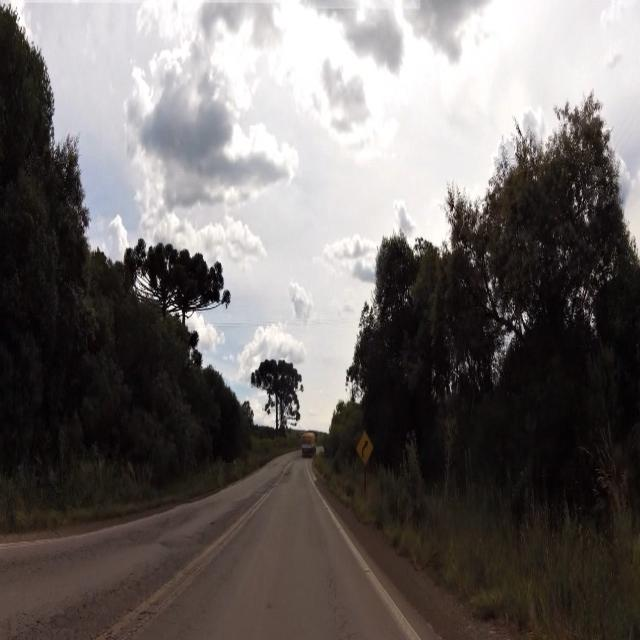A-2b: (358, 430, 375, 466)
